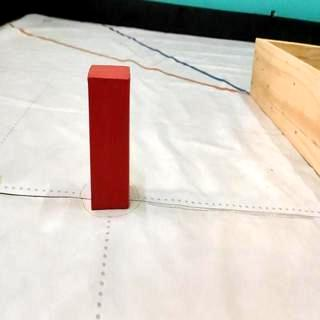redbox: (87, 64, 130, 210)
